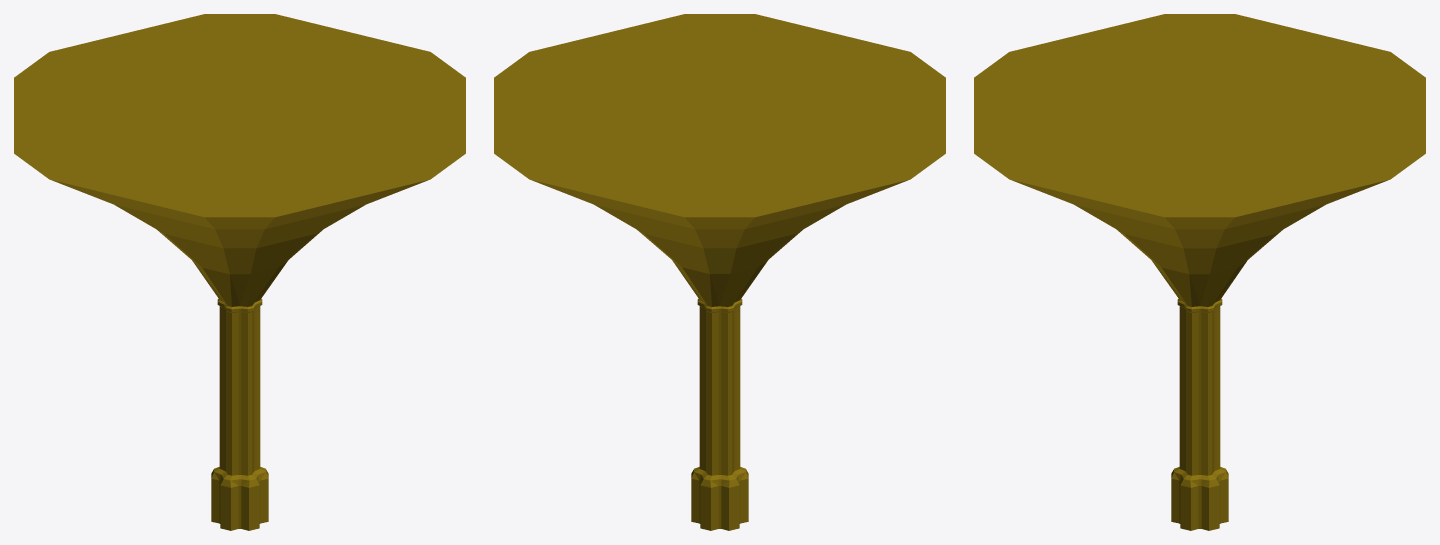
Rendered from collumn2.obj.
The picture shows the model from 3 angles, left to right: view 1: azimuth 30°, elevation 25°; view 2: azimuth 150°, elevation 25°; view 3: azimuth 270°, elevation 25°; orthographic projection.
Parts seen in each view (by area): view 1: Cylinder005; view 2: Cylinder005; view 3: Cylinder005.
Part boxes in pixels (box(x1,y1,x2,y2)): Cylinder005: box(14, 14, 465, 530); Cylinder005: box(494, 14, 945, 530); Cylinder005: box(974, 14, 1425, 530).
Bounding box in the file's own units: 5.94 × 5.5 × 5.58.
